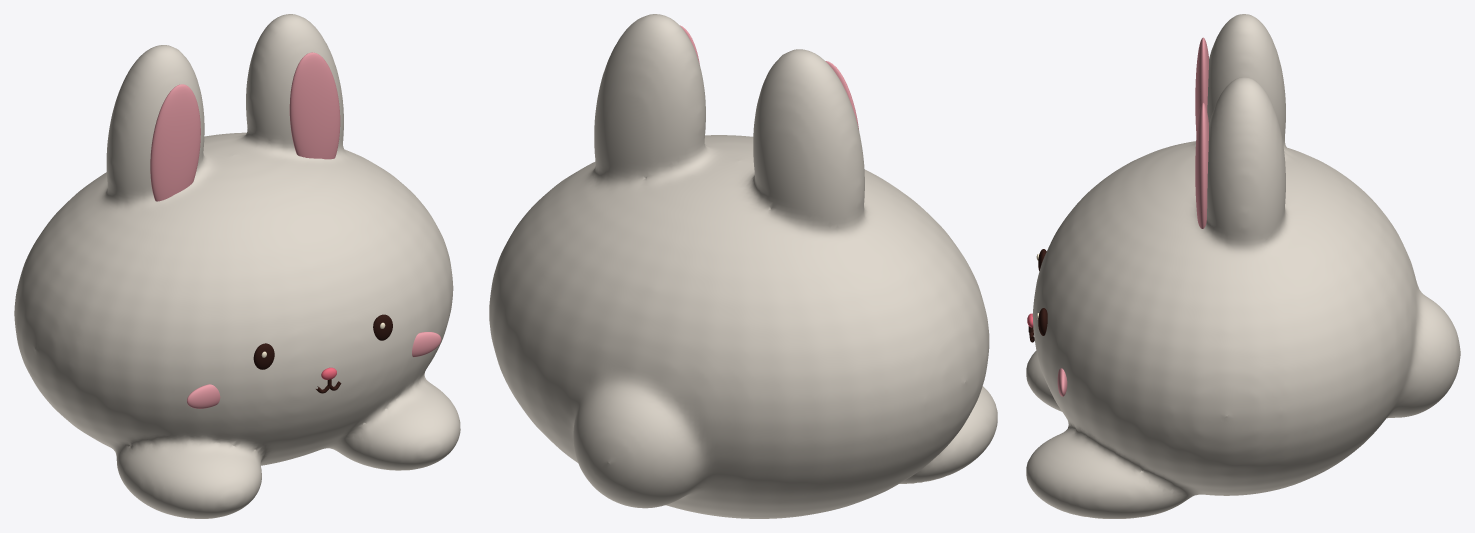
Rendered from MochiBunny.fbx.
3 views of the same model, side by side, from view 1: azimuth 30°, elevation 25°; view 2: azimuth 150°, elevation 25°; view 3: azimuth 270°, elevation 25° (orthographic). The views are drawn at different scales.
Visible parts, largest first — view 1: MochiRabbit_SoftBody, Pink inner ear, Pink inner ear.001, Soft blush, Soft blush.001; view 2: MochiRabbit_SoftBody; view 3: MochiRabbit_SoftBody, Pink inner ear.001, Pink inner ear.
Part boxes in pixels (box(x1,y1,x2,y2)): MochiRabbit_SoftBody: box(14, 14, 460, 518); Pink inner ear: box(150, 84, 200, 201); Pink inner ear.001: box(289, 52, 340, 159); Soft blush: box(187, 384, 220, 408); Soft blush.001: box(412, 332, 441, 357); MochiRabbit_SoftBody: box(489, 14, 997, 518); MochiRabbit_SoftBody: box(1026, 14, 1460, 518); Pink inner ear.001: box(1195, 102, 1208, 228); Pink inner ear: box(1195, 37, 1208, 134).
Bounding box in the file's own units: 0.9387 × 0.8832 × 0.8715.
5 materials, 4 textured.
